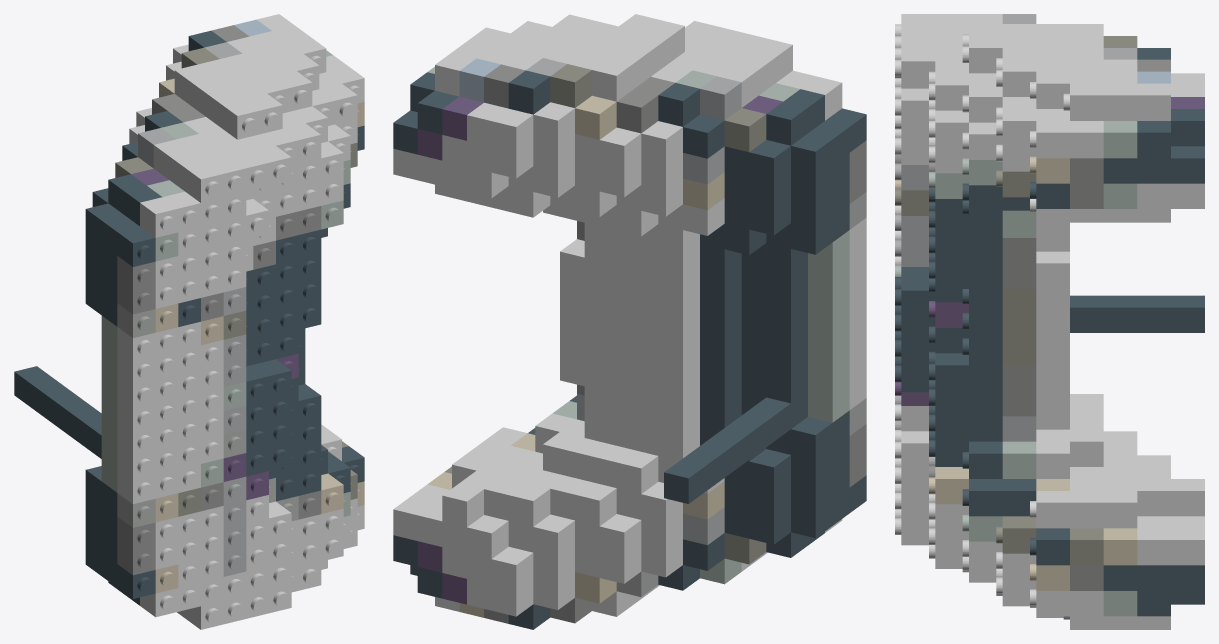
Rendered from full.glb.
3 views of the same model, side by side, from view 1: azimuth 30°, elevation 25°; view 2: azimuth 150°, elevation 25°; view 3: azimuth 270°, elevation 25° (orthographic). The views are drawn at different scales.
Visible parts, largest first — view 1: world; view 2: world; view 3: world.
Boxes of the visible parts, x1,y1,x2,y2 form: world: (14,14,364,629); world: (393,14,866,629); world: (895,14,1204,629).
Bounding box in the file's own units: 104 × 168 × 88.2.
